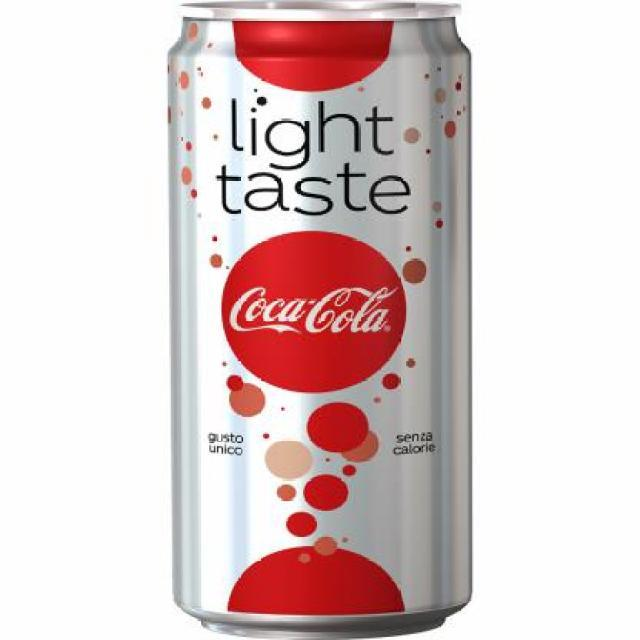Coke: (166, 1, 477, 640)
